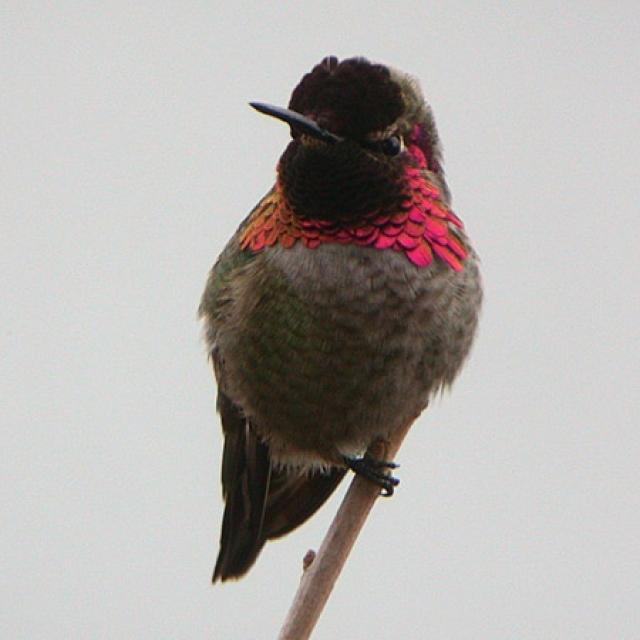bird: (190, 49, 489, 591)
